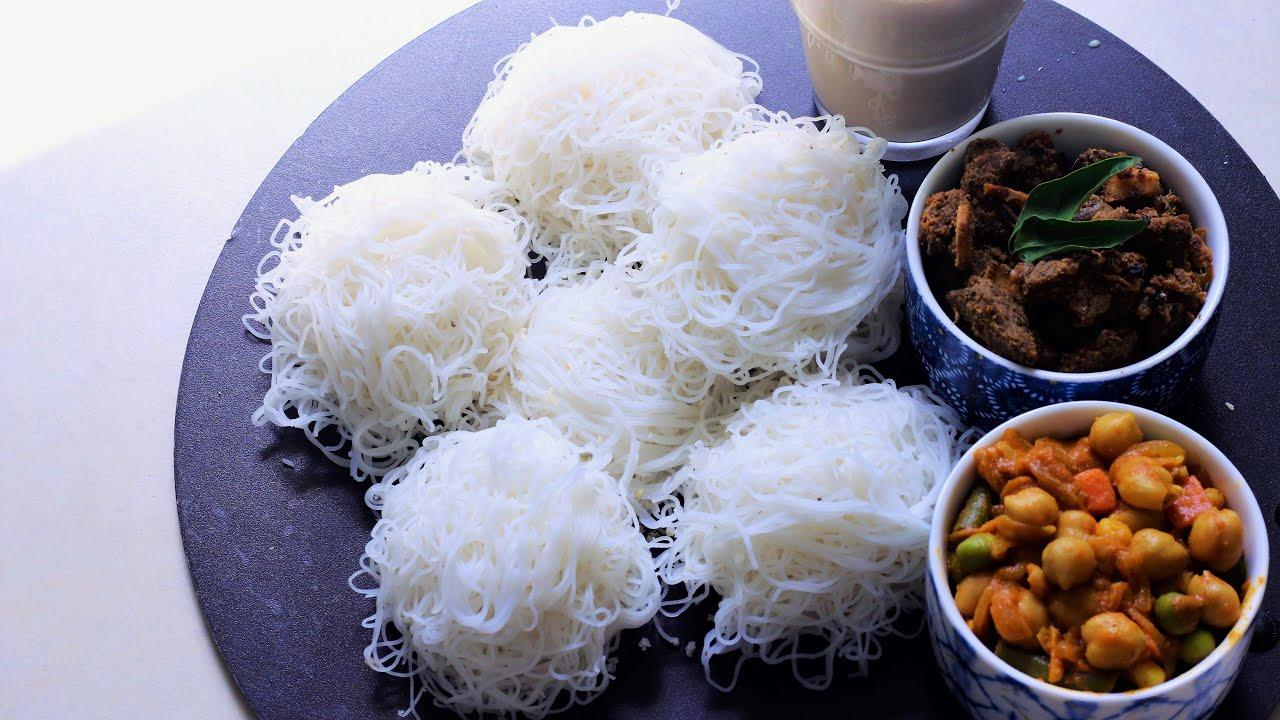String Hoppers: (260, 36, 912, 673)
